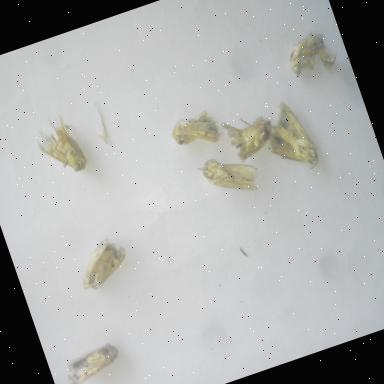abw: (253, 88, 328, 184), (28, 104, 98, 190), (66, 228, 139, 300), (192, 142, 268, 210), (216, 102, 286, 174), (159, 98, 228, 161), (275, 19, 338, 81), (55, 335, 128, 384)
